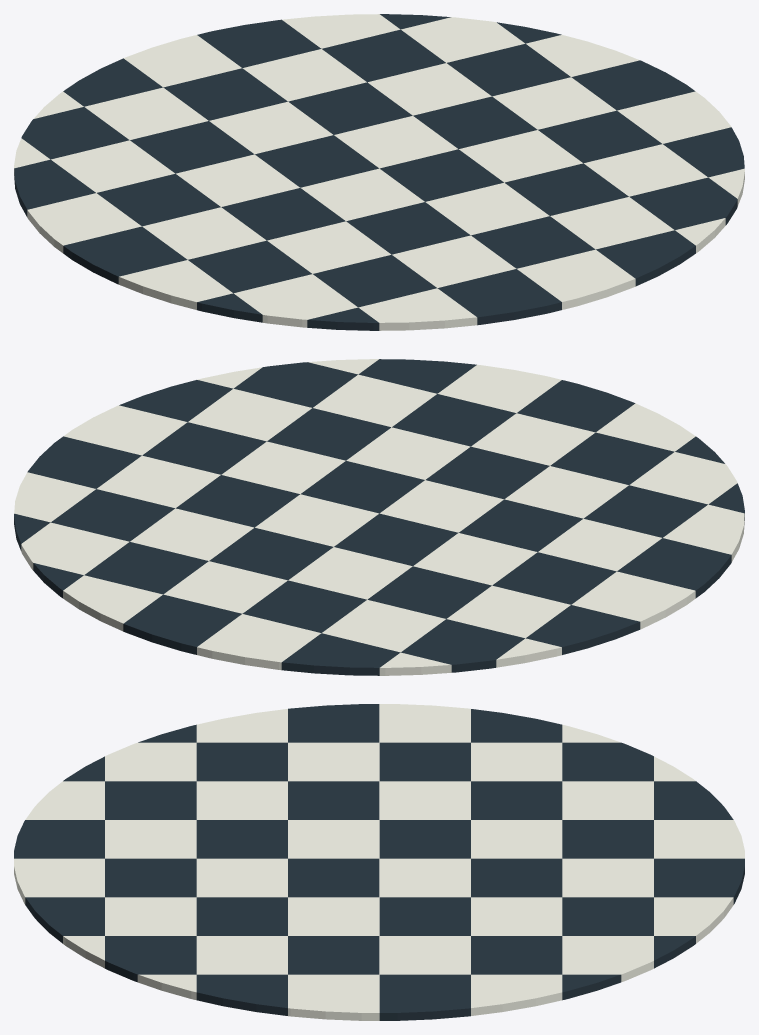
Rendered from scendance-plan-chequered-circ.glb.
3 views of the same model, one above another, from view 1: azimuth 30°, elevation 25°; view 2: azimuth 150°, elevation 25°; view 3: azimuth 270°, elevation 25° (orthographic).
Size of the model in its own units: 2 by 0.024 by 2.
